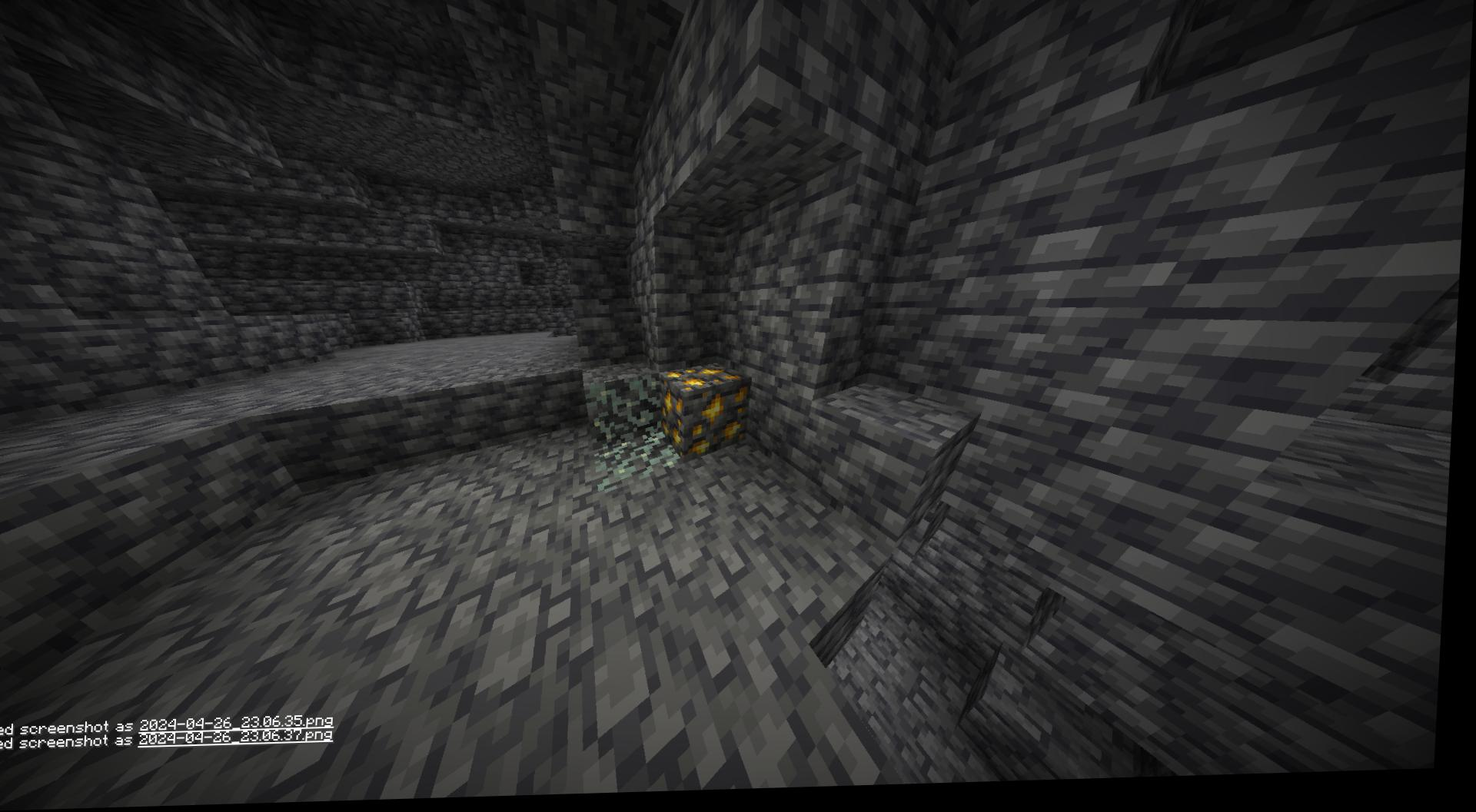gold ore: (668, 365, 753, 452)
